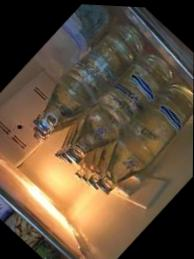glass: (35, 39, 181, 191), (33, 5, 153, 151), (82, 77, 191, 202)
